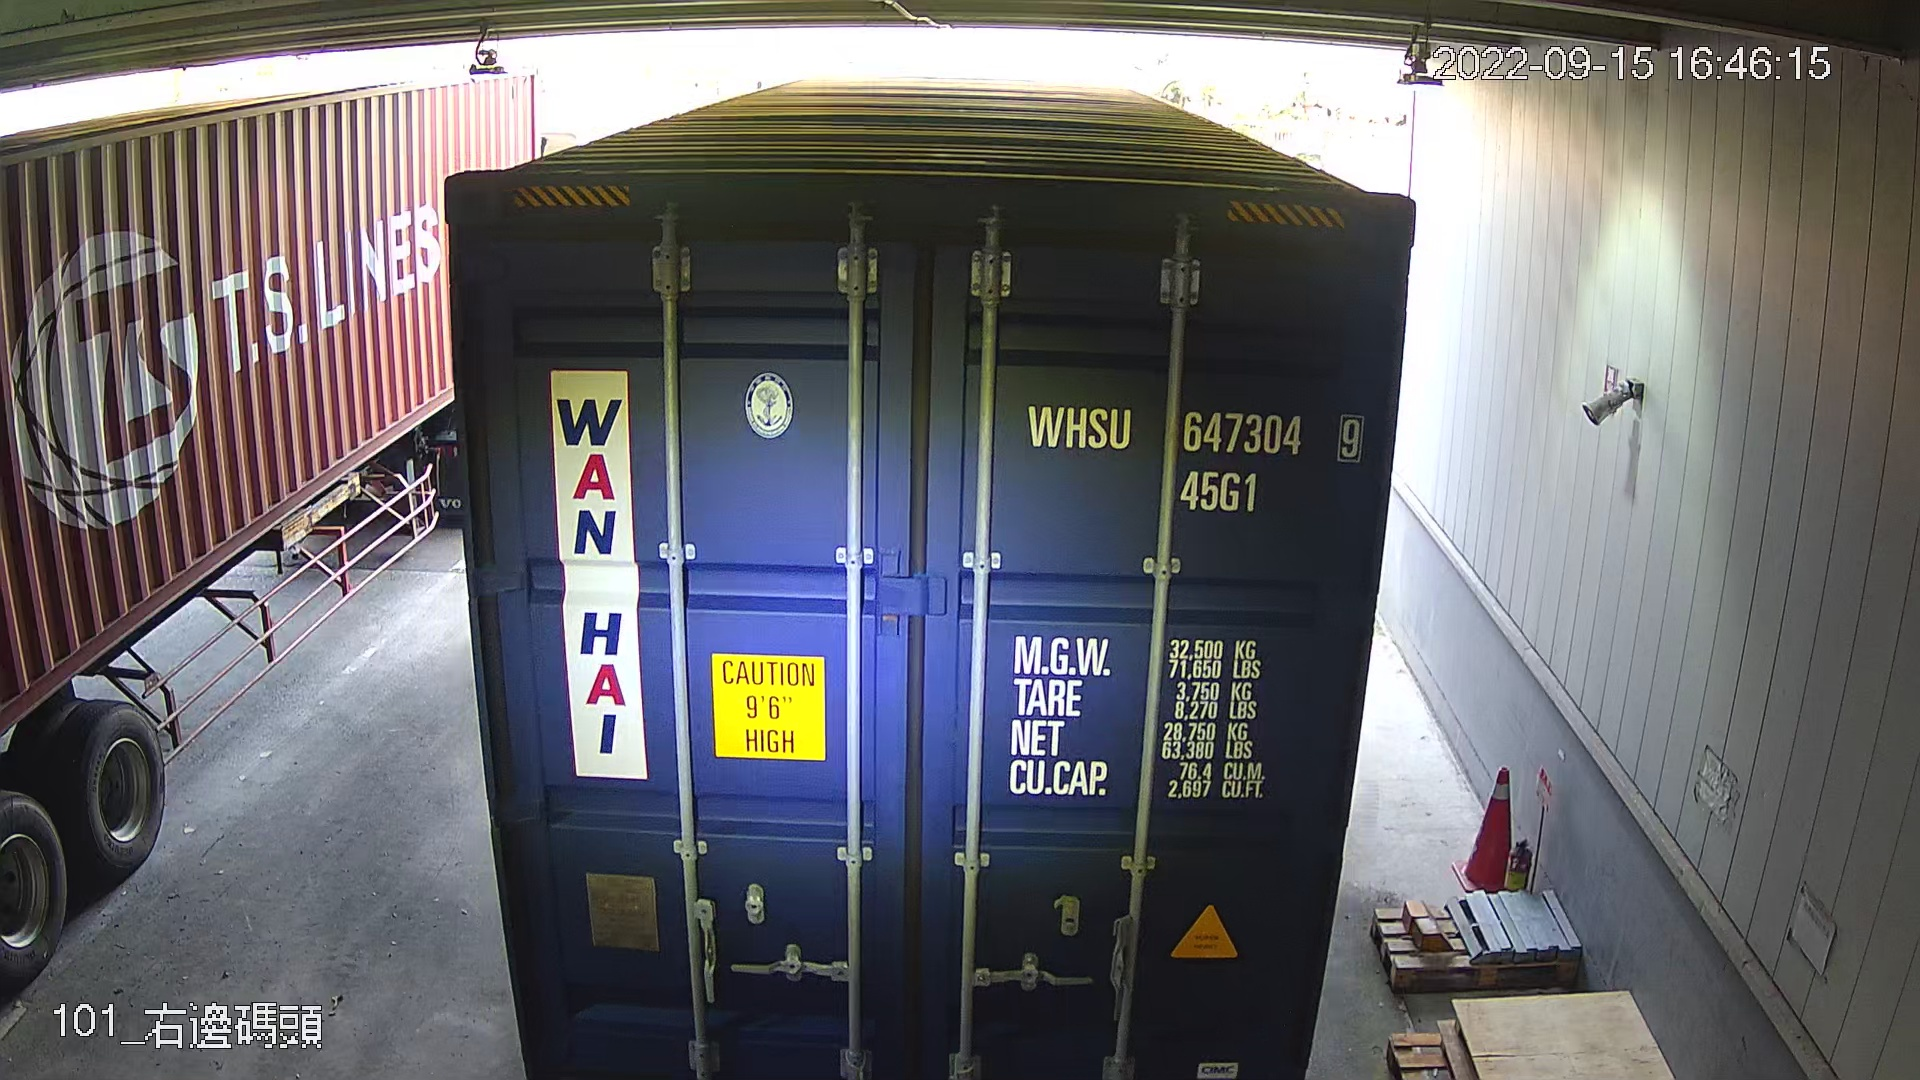container: (1021, 388, 1375, 516)
